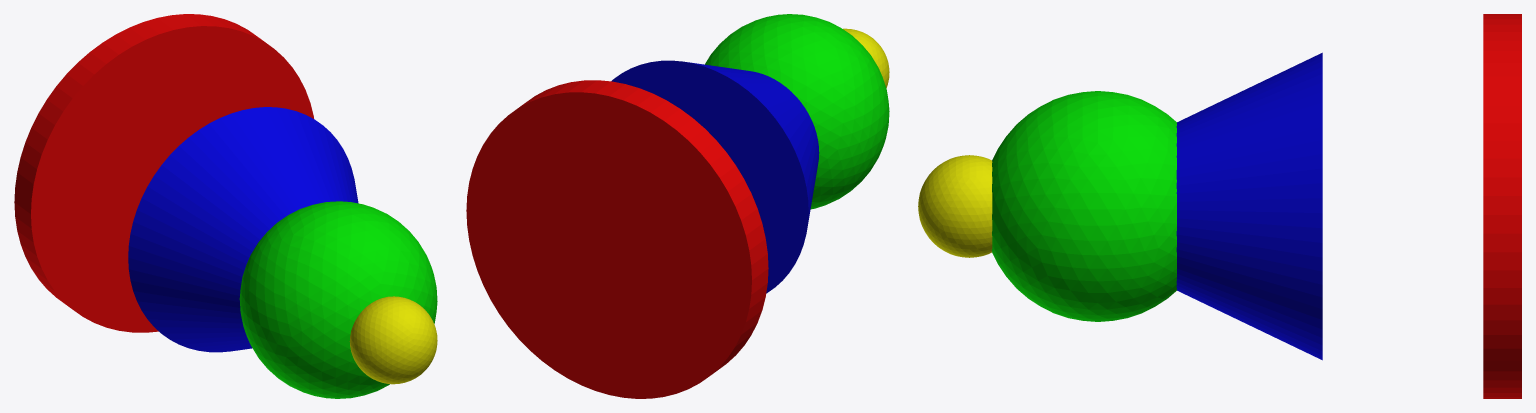
The model's file is alfil_colores_matlab.glb.
3 renders of one model, left to right at view 1: azimuth 30°, elevation 25°; view 2: azimuth 150°, elevation 25°; view 3: azimuth 270°, elevation 25°, orthographic. The views are drawn at different scales.
Visible parts, largest first — view 1: world; view 2: world; view 3: world.
Boxes of the visible parts, left/top/right/bottom form: world: left=14, top=14, right=437, bottom=398; world: left=466, top=14, right=889, bottom=398; world: left=918, top=14, right=1521, bottom=398.
Size of the model in its own units: 3 by 3 by 4.7.
